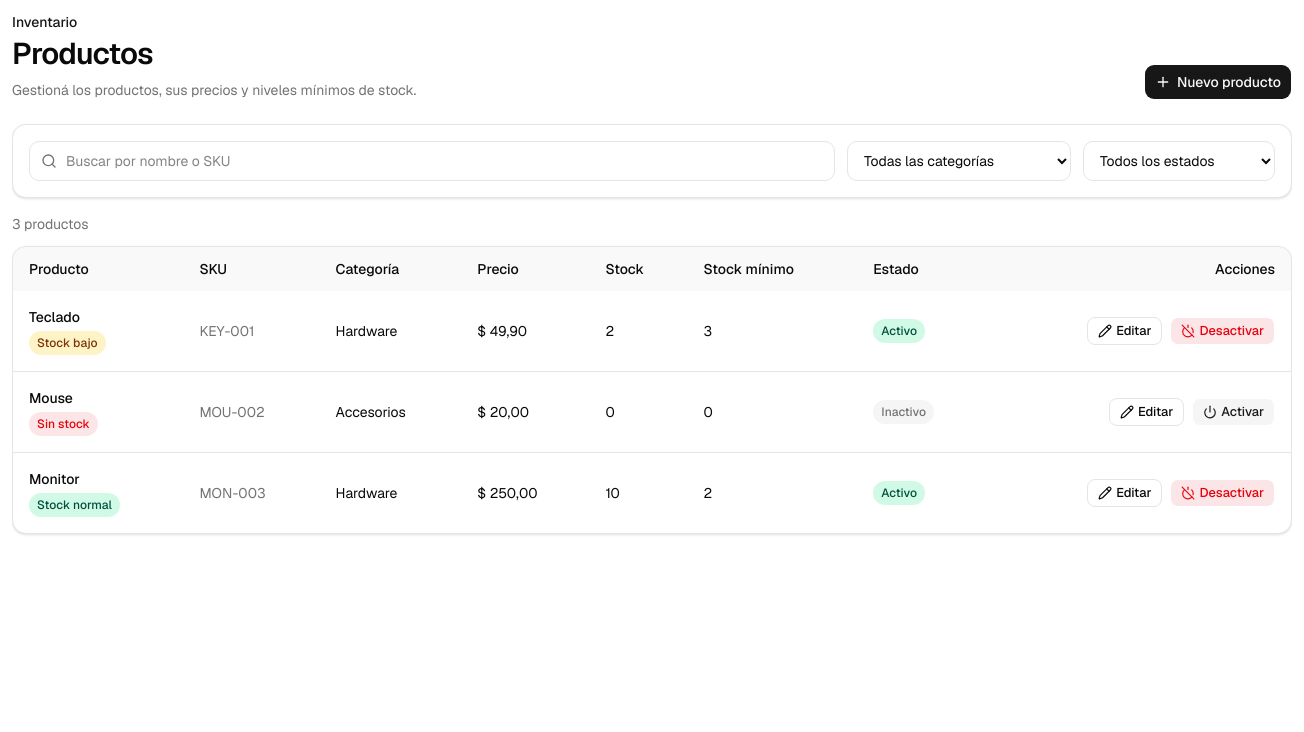
Test: ProductsPage › searches products with Teclado
Type "Teclado" into the search field named "Buscar productos" at (432, 161), box [29, 141, 835, 181]
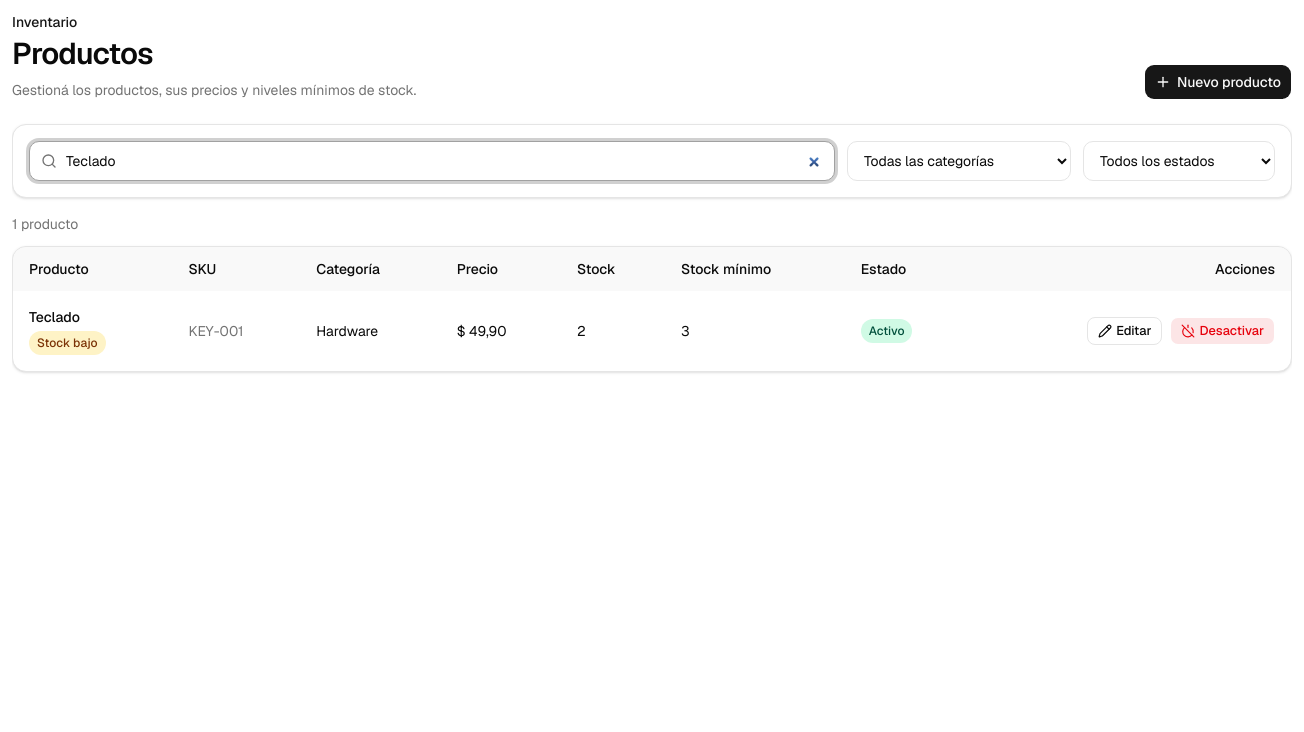
Check: the text "Mouse" is gone
